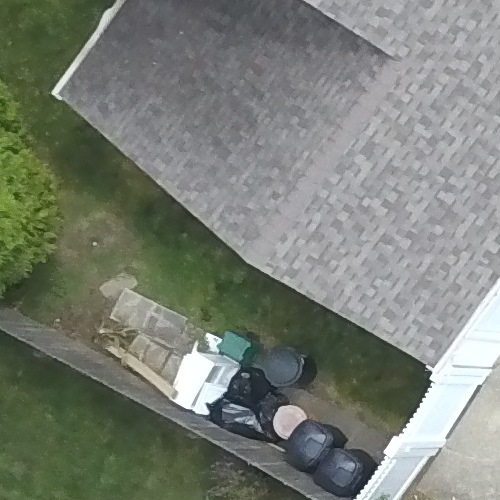container: (263, 394, 309, 440)
no larvae: (204, 362, 290, 443), (277, 416, 349, 468), (310, 444, 382, 496), (204, 318, 267, 370), (258, 341, 321, 393)
recycling bin: (206, 320, 269, 372)
trash: (201, 362, 289, 444)
trash bin: (311, 441, 382, 499), (276, 415, 347, 473), (256, 339, 327, 397)
